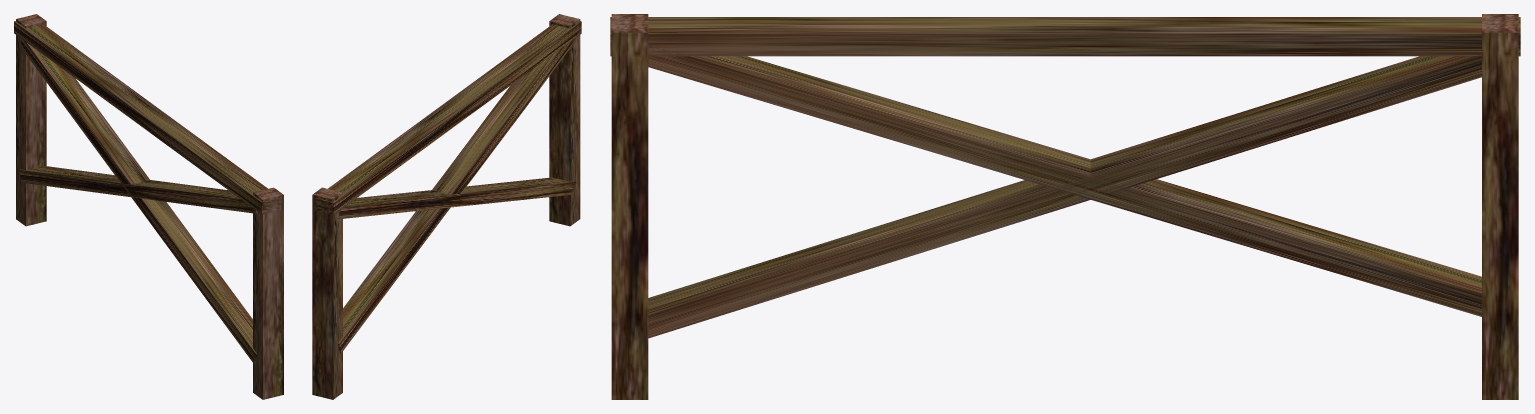
The model's file is fence.obj.
The picture shows the model from 3 angles, left to right: view 1: azimuth 30°, elevation 25°; view 2: azimuth 150°, elevation 25°; view 3: azimuth 270°, elevation 25°; orthographic projection. The views are drawn at different scales.
Parts seen in each view (by area): view 1: Cube_Cube.001; view 2: Cube_Cube.001; view 3: Cube_Cube.001.
Boxes of the visible parts, box(x1,y1,x2,y2) form: Cube_Cube.001: box(14, 14, 283, 399); Cube_Cube.001: box(312, 14, 581, 399); Cube_Cube.001: box(610, 14, 1520, 399).
Bounding box in the file's own units: 0.5416 × 4.66 × 10.46.
